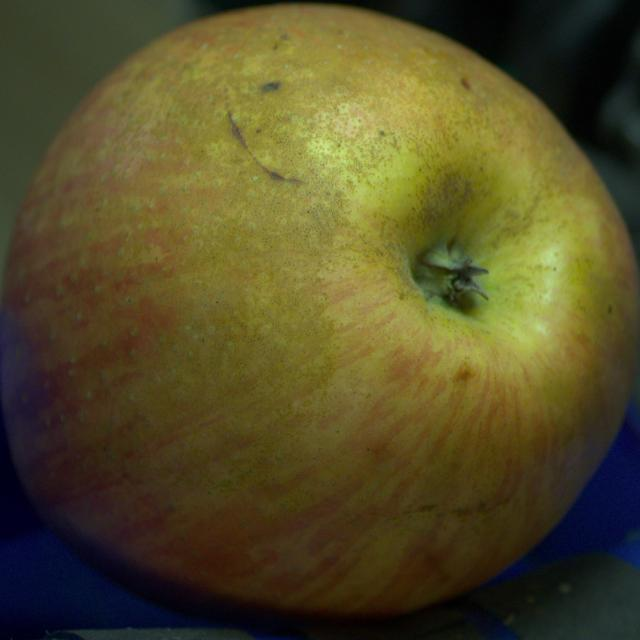apple: (0, 5, 639, 616)
pest: (262, 81, 279, 91), (461, 78, 471, 89), (279, 34, 288, 39)
scratch: (228, 111, 302, 183)
